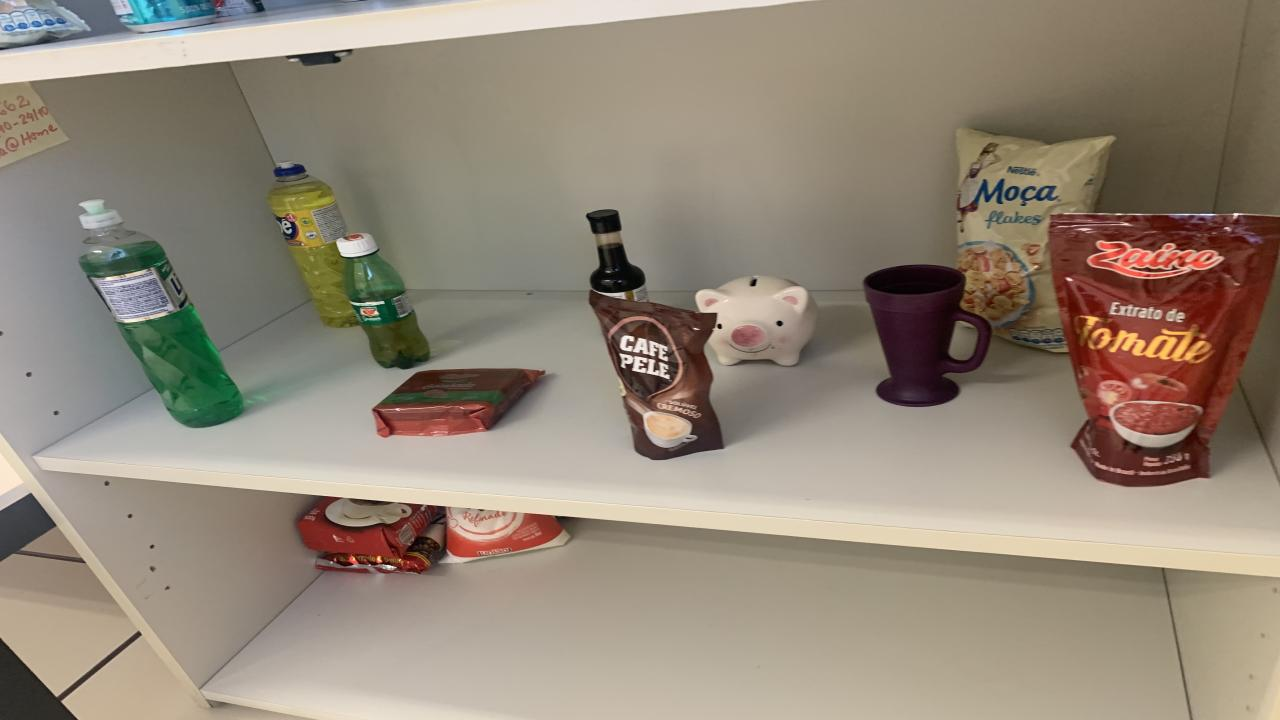Coffee-Pantry_Items: (590, 291, 722, 459)
Detergent-Cleanup_Items: (78, 199, 242, 428), (268, 163, 358, 328)
English_Sauce-Pantry_Items: (588, 210, 648, 300)
Flakes-Snacks: (955, 128, 1115, 352), (212, 0, 265, 17)
Guarana-Drinks: (335, 234, 430, 369)
Guava-Snacks: (372, 368, 545, 437)
Pig_Safe-Miscellaneous: (695, 276, 818, 366)
Tea-Drinks: (110, 0, 218, 32)
Tomato_Sauce-Pantry_Items: (1050, 214, 1280, 486)
